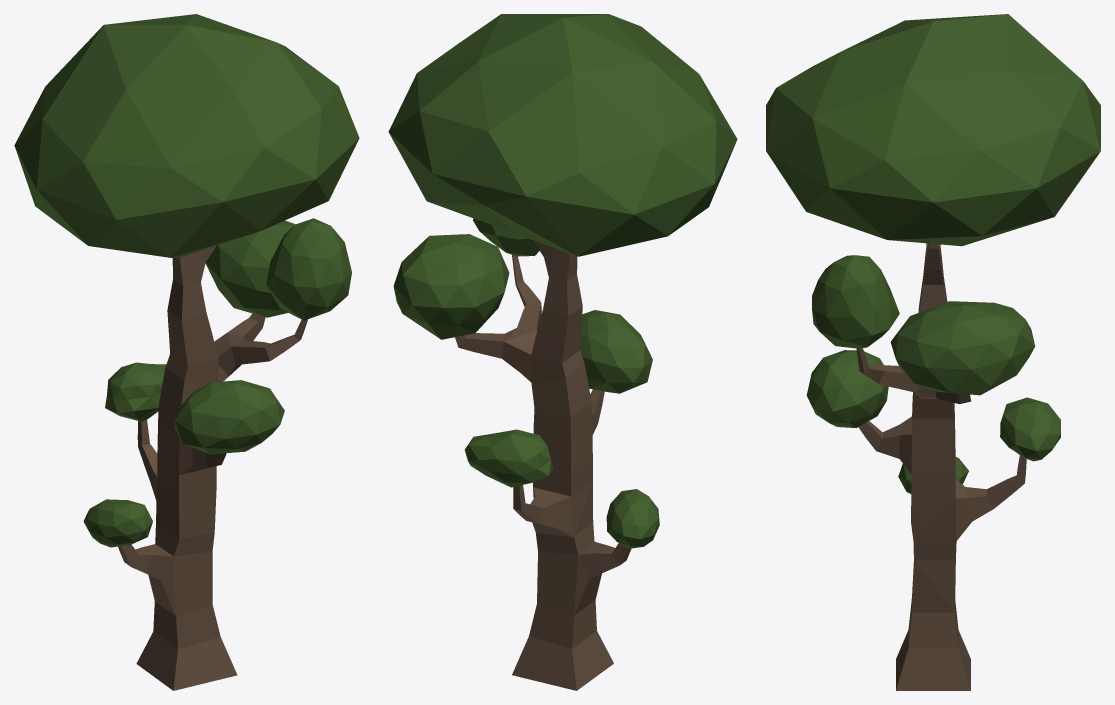
The model's file is SequoiaTree1.fbx.
The picture shows the model from 3 angles, left to right: view 1: azimuth 30°, elevation 25°; view 2: azimuth 150°, elevation 25°; view 3: azimuth 270°, elevation 25°; orthographic projection.
Visible parts, largest first — view 1: SequoiaTree1Foliage, SequoiaTree1; view 2: SequoiaTree1Foliage, SequoiaTree1; view 3: SequoiaTree1Foliage, SequoiaTree1.
Part boxes in pixels (x1,y1,x2,y2): SequoiaTree1Foliage: (14,14,359,547); SequoiaTree1: (118,245,307,690); SequoiaTree1Foliage: (388,14,737,548); SequoiaTree1: (455,240,631,690); SequoiaTree1Foliage: (766,14,1100,493); SequoiaTree1: (856,243,1026,690).
Bounding box in the file's own units: 6.81 × 13.96 × 6.48.
